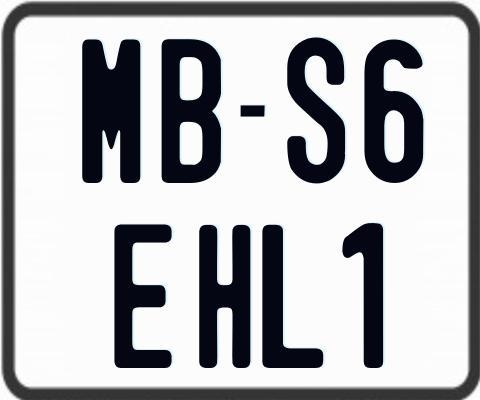1: (339, 221, 384, 370)
6: (362, 38, 422, 187)
B: (159, 39, 219, 184)
E: (114, 221, 175, 365)
H: (198, 224, 253, 368)
L: (260, 222, 327, 369)
M: (82, 37, 141, 181)
S: (286, 34, 344, 183)
